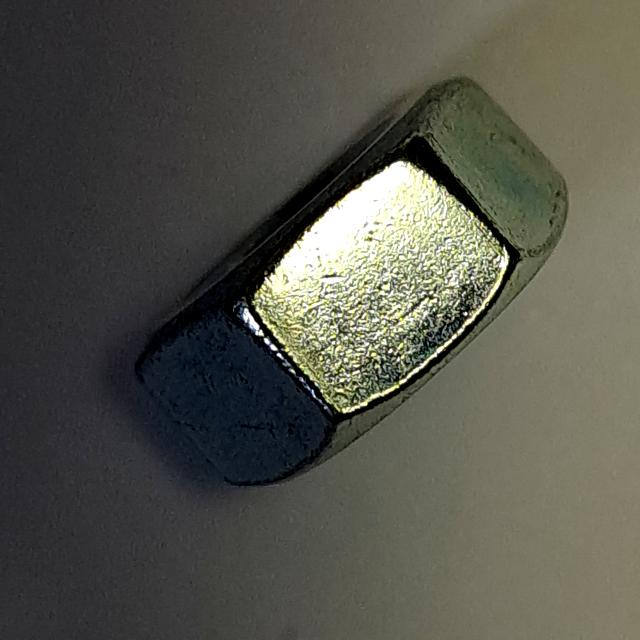Side_Excellent: (126, 66, 580, 502)
